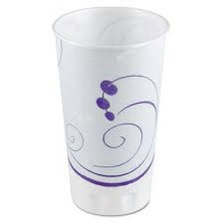paper_cup: (46, 0, 176, 219)
